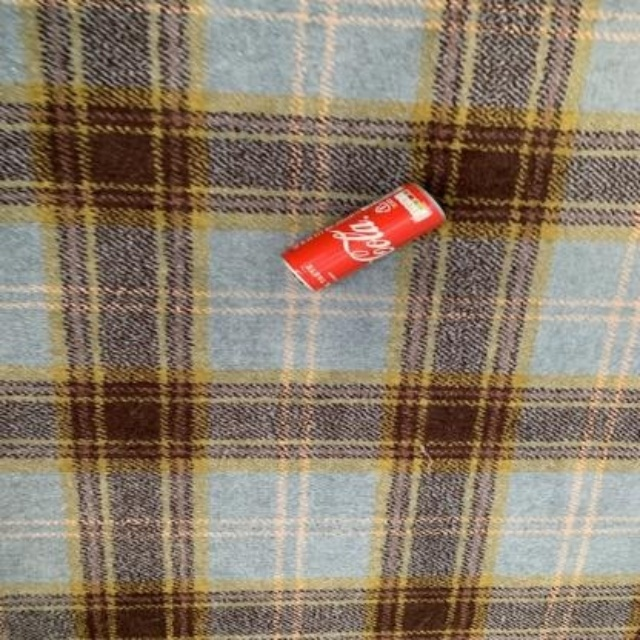trash: (282, 183, 443, 289)
